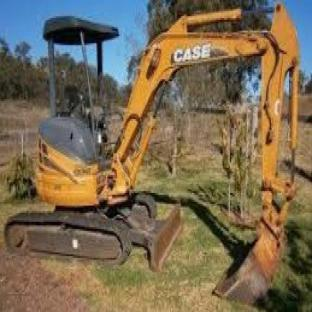ExcavationMachinery: (36, 9, 307, 296)
